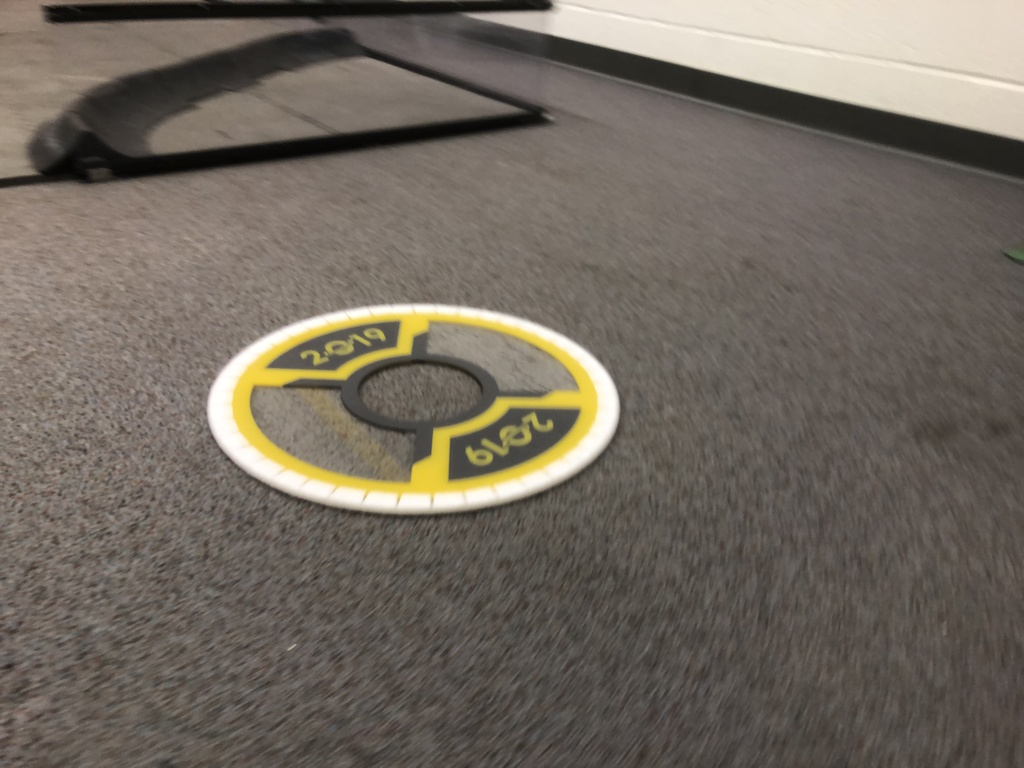hatch_panel: (191, 289, 646, 524)
